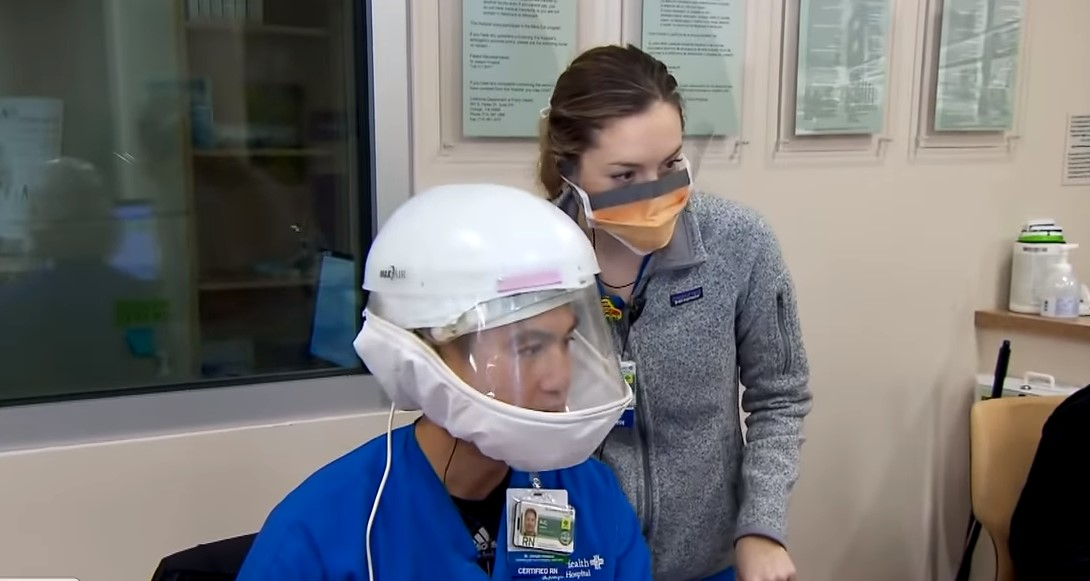face_with_mask: (538, 51, 692, 257)
